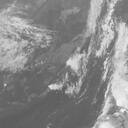cyclone: (39, 37, 94, 94), (90, 113, 123, 127)
